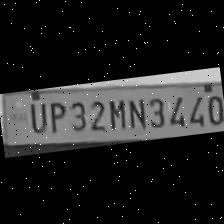0: (201, 88, 224, 124)
2: (84, 94, 107, 132)
3: (142, 92, 166, 130), (64, 96, 88, 132)
4: (163, 92, 186, 129), (182, 90, 204, 126)
M: (105, 94, 128, 131)
N: (124, 92, 146, 130)
P: (43, 98, 66, 134)
U: (23, 98, 47, 134)
